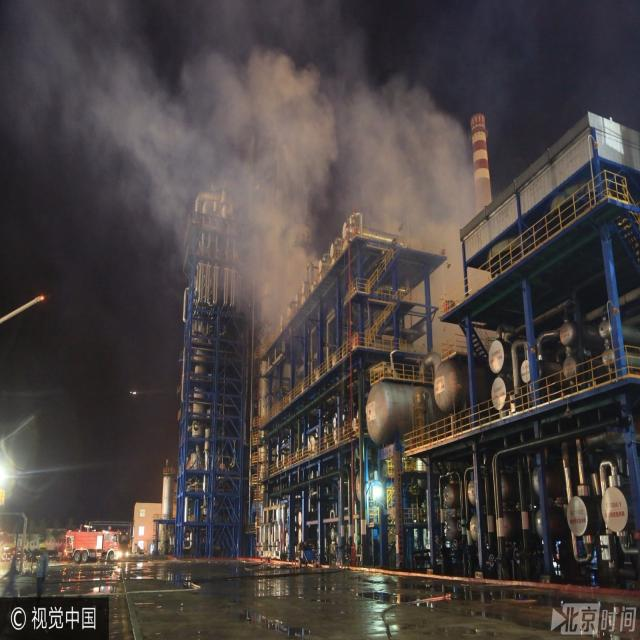smoke: (12, 4, 496, 360)
